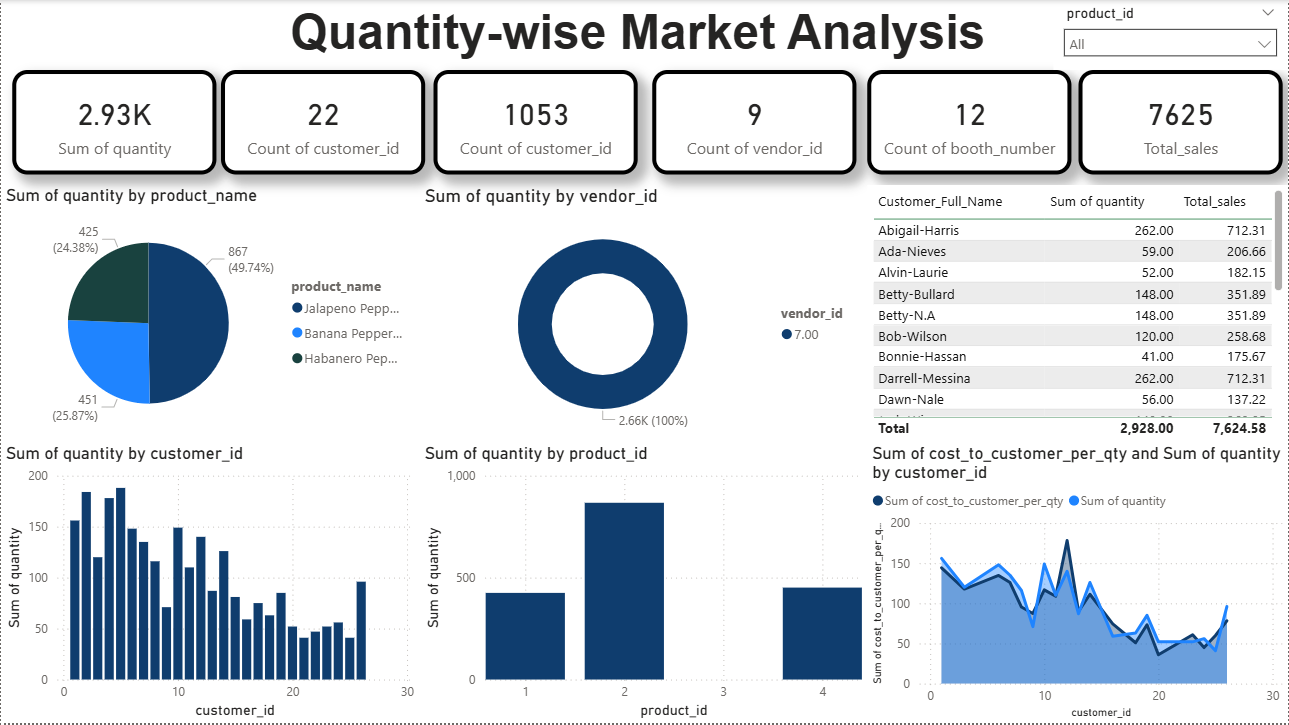

Layout of this report page (visuals, bound fields, positions):
{"tool":"powerbi","page":{"name":"Quantity wise analysis","canvas":[1280,720],"ordinal":0},"visuals":[{"type":"clusteredColumnChart","fields":{"Category":["customer_purchases.customer_id"],"Y":["customer_purchases.quantity"]},"box":[0,440.4,416.7,279.9],"z":0},{"type":"clusteredColumnChart","fields":{"Category":["product.product_id"],"Y":["customer_purchases.quantity"]},"box":[416.7,440.4,445.3,279.9],"z":1000},{"type":"pieChart","fields":{"Category":["product.product_name"],"Y":["customer_purchases.quantity"]},"box":[0,184.1,416.7,256.3],"z":2000},{"type":"donutChart","fields":{"Category":["vendor.vendor_id"],"Y":["customer_purchases.quantity"]},"box":[417.2,183.9,444.6,256.6],"z":3000},{"type":"textbox","box":[167.9,0,931.7,69.7],"z":4000},{"type":"card","fields":{"Values":["customer_purchases.quantity"]},"box":[11,70,203.1,104.3],"z":4001},{"type":"card","fields":{"Values":["customer.customer_id"]},"box":[219.6,70,203.1,104.3],"z":4002},{"type":"card","fields":{"Values":["customer_purchases.customer_id"]},"box":[430.9,70,203.1,104.3],"z":4003},{"type":"card","fields":{"Values":["vendor.vendor_id"]},"box":[647.7,70,203.1,104.3],"z":4004},{"type":"card","fields":{"Values":["booth.booth_number"]},"box":[861.8,70,203.1,104.3],"z":4005},{"type":"areaChart","fields":{"Category":["customer.customer_id"],"Y":["customer_purchases.cost_to_customer_per_qty","customer_purchases.quantity"]},"box":[861.8,440.5,418.5,279.9],"z":4006},{"type":"card","fields":{"Values":["customer_purchases.Total_sales"]},"box":[1071.7,70,203.1,104.3],"z":4007},{"type":"tableEx","fields":{"Values":["customer.Customer_Full_Name","customer_purchases.quantity","customer_purchases.Total_sales"]},"box":[861.8,183.9,418.5,256.6],"z":4008},{"type":"slicer","fields":{"Values":["customer_purchases.product_id"]},"box":[1047.4,0,232.6,69.7],"z":4009}]}

Visuals, with their boxes in screenshot pixels (x1, y1, x2, y2), scaled from the page's 1280x720 canvas onto the 1289x725 screenshot:
clusteredColumnChart - customer_purchases.customer_id x customer_purchases.quantity: [left=0, top=443, right=420, bottom=724]
clusteredColumnChart - product.product_id x customer_purchases.quantity: [left=420, top=443, right=868, bottom=724]
pieChart - product.product_name x customer_purchases.quantity: [left=0, top=185, right=420, bottom=443]
donutChart - vendor.vendor_id x customer_purchases.quantity: [left=420, top=185, right=868, bottom=444]
textbox: [left=169, top=0, right=1107, bottom=70]
card - customer_purchases.quantity: [left=11, top=70, right=216, bottom=176]
card - customer.customer_id: [left=221, top=70, right=426, bottom=176]
card - customer_purchases.customer_id: [left=434, top=70, right=638, bottom=176]
card - vendor.vendor_id: [left=652, top=70, right=857, bottom=176]
card - booth.booth_number: [left=868, top=70, right=1072, bottom=176]
areaChart - customer.customer_id x customer_purchases.cost_to_customer_per_qty: [left=868, top=444, right=1288, bottom=724]
card - customer_purchases.Total_sales: [left=1079, top=70, right=1284, bottom=176]
tableEx - customer.Customer_Full_Name x customer_purchases.quantity: [left=868, top=185, right=1288, bottom=444]
slicer - customer_purchases.product_id: [left=1055, top=0, right=1288, bottom=70]
